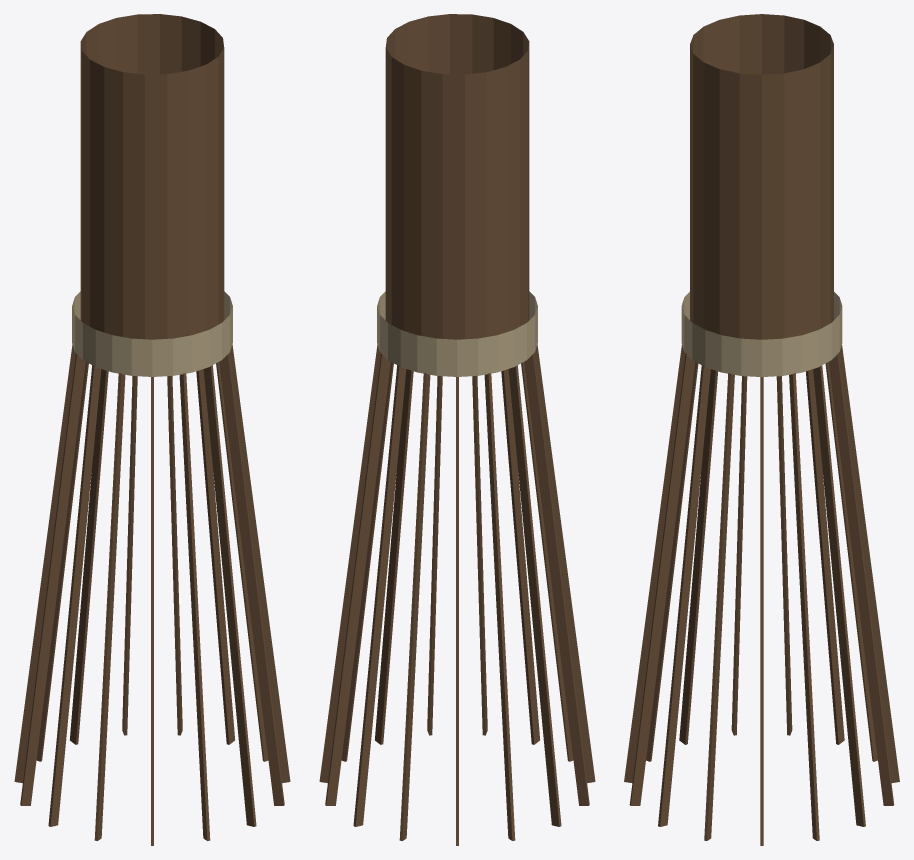
The model's file is downlight_lantern.glb.
3 renders of one model, left to right at view 1: azimuth 30°, elevation 25°; view 2: azimuth 150°, elevation 25°; view 3: azimuth 270°, elevation 25°, orthographic.
Parts seen in each view (by area): view 1: EXPORT_Lantern_body, EXPORT_Lantern_ring, EXPORT_Lantern_strip07, EXPORT_Lantern_strip13, EXPORT_Lantern_strip08, EXPORT_Lantern_strip12, EXPORT_Lantern_strip09, EXPORT_Lantern_strip11, EXPORT_Lantern_strip01, EXPORT_Lantern_strip04, EXPORT_Lantern_strip06, EXPORT_Lantern_strip14 (+5 smaller); view 2: EXPORT_Lantern_body, EXPORT_Lantern_ring, EXPORT_Lantern_strip02, EXPORT_Lantern_strip08, EXPORT_Lantern_strip03, EXPORT_Lantern_strip07, EXPORT_Lantern_strip04, EXPORT_Lantern_strip06, EXPORT_Lantern_strip11, EXPORT_Lantern_strip14, EXPORT_Lantern_strip01, EXPORT_Lantern_strip09 (+5 smaller); view 3: EXPORT_Lantern_body, EXPORT_Lantern_ring, EXPORT_Lantern_strip03, EXPORT_Lantern_strip12, EXPORT_Lantern_strip02, EXPORT_Lantern_strip13, EXPORT_Lantern_strip01, EXPORT_Lantern_strip14, EXPORT_Lantern_strip06, EXPORT_Lantern_strip09, EXPORT_Lantern_strip04, EXPORT_Lantern_strip11 (+5 smaller).
Boxes of the visible parts, x1,y1,x2,y2 form: EXPORT_Lantern_body: (80,14,224,339); EXPORT_Lantern_ring: (72,291,232,376); EXPORT_Lantern_strip07: (20,353,85,805); EXPORT_Lantern_strip13: (219,353,284,805); EXPORT_Lantern_strip08: (48,365,101,826); EXPORT_Lantern_strip12: (203,365,256,826); EXPORT_Lantern_strip09: (94,373,125,840); EXPORT_Lantern_strip11: (179,373,210,840); EXPORT_Lantern_strip01: (196,369,234,744); EXPORT_Lantern_strip04: (70,369,108,744); EXPORT_Lantern_strip06: (14,344,75,783); EXPORT_Lantern_strip14: (229,344,290,783); EXPORT_Lantern_body: (385,14,529,339); EXPORT_Lantern_ring: (377,291,537,376); EXPORT_Lantern_strip02: (325,353,390,805); EXPORT_Lantern_strip08: (524,353,589,805); EXPORT_Lantern_strip03: (353,365,406,826); EXPORT_Lantern_strip07: (508,365,561,826); EXPORT_Lantern_strip04: (399,373,430,840); EXPORT_Lantern_strip06: (484,373,515,840); EXPORT_Lantern_strip11: (501,369,539,744); EXPORT_Lantern_strip14: (375,369,413,744); EXPORT_Lantern_strip01: (319,344,380,783); EXPORT_Lantern_strip09: (534,344,595,783); EXPORT_Lantern_body: (690,14,833,339); EXPORT_Lantern_ring: (681,292,842,376); EXPORT_Lantern_strip03: (828,353,894,805); EXPORT_Lantern_strip12: (629,353,695,805); EXPORT_Lantern_strip02: (813,365,865,826); EXPORT_Lantern_strip13: (658,365,710,826); EXPORT_Lantern_strip01: (789,373,819,840); EXPORT_Lantern_strip14: (704,373,734,840); EXPORT_Lantern_strip06: (806,369,844,744); EXPORT_Lantern_strip09: (679,369,717,744); EXPORT_Lantern_strip04: (838,345,899,782); EXPORT_Lantern_strip11: (624,345,685,782).
Size of the model in its own units: 0.1332 by 0.3985 by 0.134.
